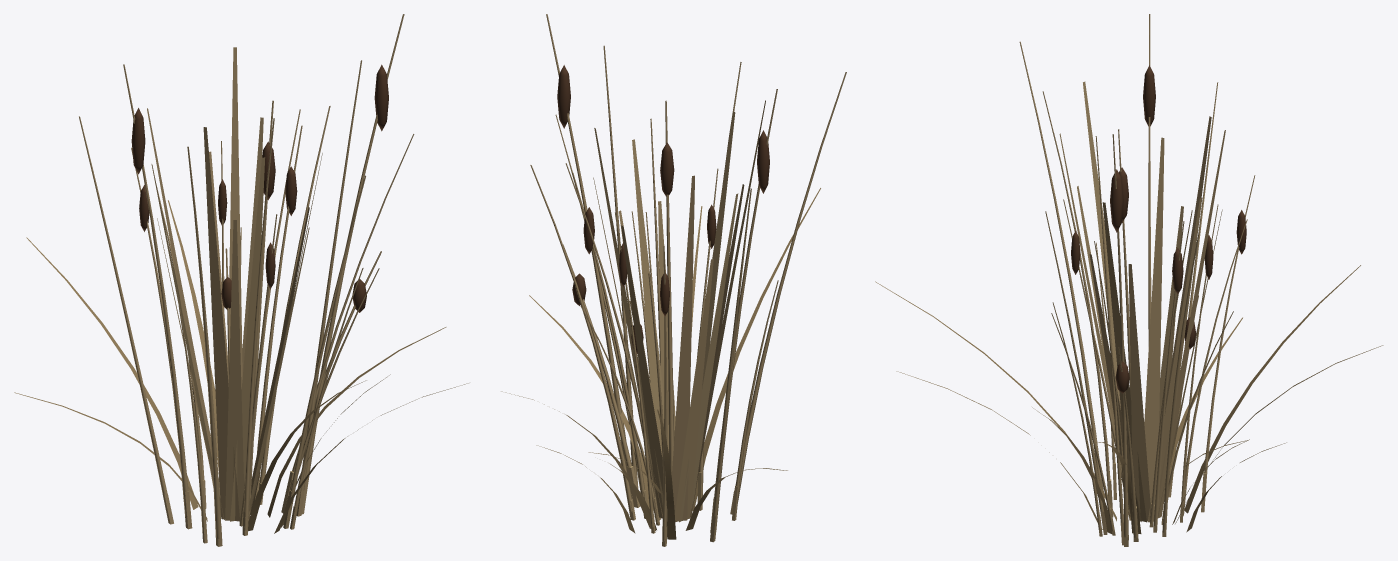
File: reed_clump_1.glb
3 views of the same model, side by side, from view 1: azimuth 30°, elevation 25°; view 2: azimuth 150°, elevation 25°; view 3: azimuth 270°, elevation 25° (orthographic). The views are drawn at different scales.
Parts seen in each view (by area): view 1: ReedClump_Far, ReedClump_Stalks_1, ReedClump_Stalks_2, ReedClump_Stalks_0, ReedClump_Heads_1, ReedClump_Blades_1, ReedClump_Blades_0, ReedClump_StubbleStalks, ReedClump_Heads_2, ReedClump_Heads_0, ReedClump_Blades_2; view 2: ReedClump_Far, ReedClump_Stalks_2, ReedClump_Stalks_1, ReedClump_Stalks_0, ReedClump_Blades_1, ReedClump_Heads_1, ReedClump_Blades_0, ReedClump_Heads_2, ReedClump_StubbleStalks, ReedClump_Blades_2, ReedClump_Heads_0; view 3: ReedClump_Far, ReedClump_Stalks_1, ReedClump_Stalks_2, ReedClump_Stalks_0, ReedClump_Heads_1, ReedClump_Blades_1, ReedClump_Blades_0, ReedClump_StubbleStalks, ReedClump_Heads_2, ReedClump_Heads_0, ReedClump_Blades_2.
Part boxes in pixels (<box>): ReedClump_Far: <box>147,47,322,521</box>; ReedClump_Stalks_1: <box>123,64,363,538</box>; ReedClump_Stalks_2: <box>178,14,404,535</box>; ReedClump_Stalks_0: <box>79,116,414,509</box>; ReedClump_Heads_1: <box>131,108,297,288</box>; ReedClump_Blades_1: <box>26,237,366,531</box>; ReedClump_Blades_0: <box>168,200,446,527</box>; ReedClump_StubbleStalks: <box>162,471,308,546</box>; ReedClump_Heads_2: <box>262,64,388,200</box>; ReedClump_Heads_0: <box>139,185,366,312</box>; ReedClump_Blades_2: <box>14,383,468,533</box>; ReedClump_Far: <box>593,100,765,522</box>; ReedClump_Stalks_2: <box>530,14,778,513</box>; ReedClump_Stalks_1: <box>572,62,846,527</box>; ReedClump_Stalks_0: <box>555,114,751,541</box>; ReedClump_Blades_1: <box>609,188,820,539</box>; ReedClump_Heads_1: <box>583,130,769,287</box>; ReedClump_Blades_0: <box>501,295,655,533</box>; ReedClump_Heads_2: <box>557,65,674,196</box>; ReedClump_StubbleStalks: <box>625,462,737,546</box>; ReedClump_Blades_2: <box>588,206,787,530</box>; ReedClump_Heads_0: <box>572,272,669,353</box>; ReedClump_Far: <box>1059,81,1225,522</box>; ReedClump_Stalks_1: <box>1019,14,1218,529</box>; ReedClump_Stalks_2: <box>1051,129,1199,537</box>; ReedClump_Stalks_0: <box>1045,82,1255,537</box>; ReedClump_Heads_1: <box>1071,65,1213,294</box>; ReedClump_Blades_1: <box>875,265,1360,524</box>; ReedClump_Blades_0: <box>1032,345,1383,533</box>; ReedClump_StubbleStalks: <box>1099,462,1206,546</box>; ReedClump_Heads_2: <box>1110,167,1128,232</box>; ReedClump_Heads_0: <box>1115,210,1246,393</box>; ReedClump_Blades_2: <box>896,317,1248,529</box>.
Bounding box in the file's own units: 1.43 × 1.86 × 1.88.
